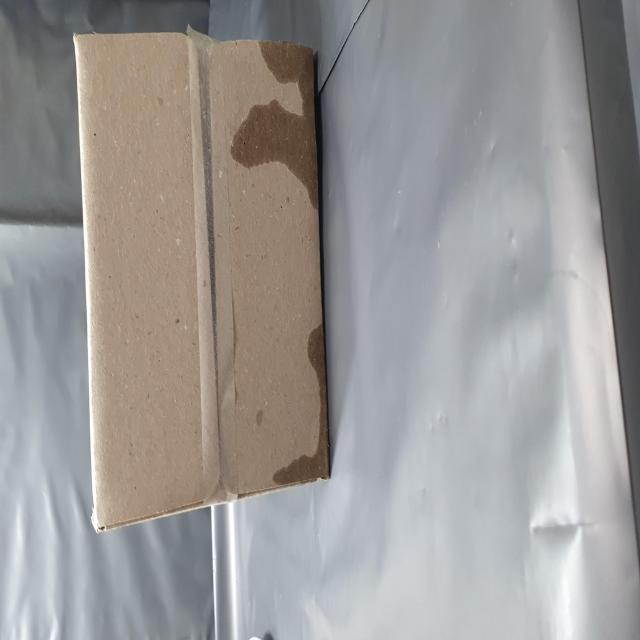wet: (240, 413, 338, 587)
